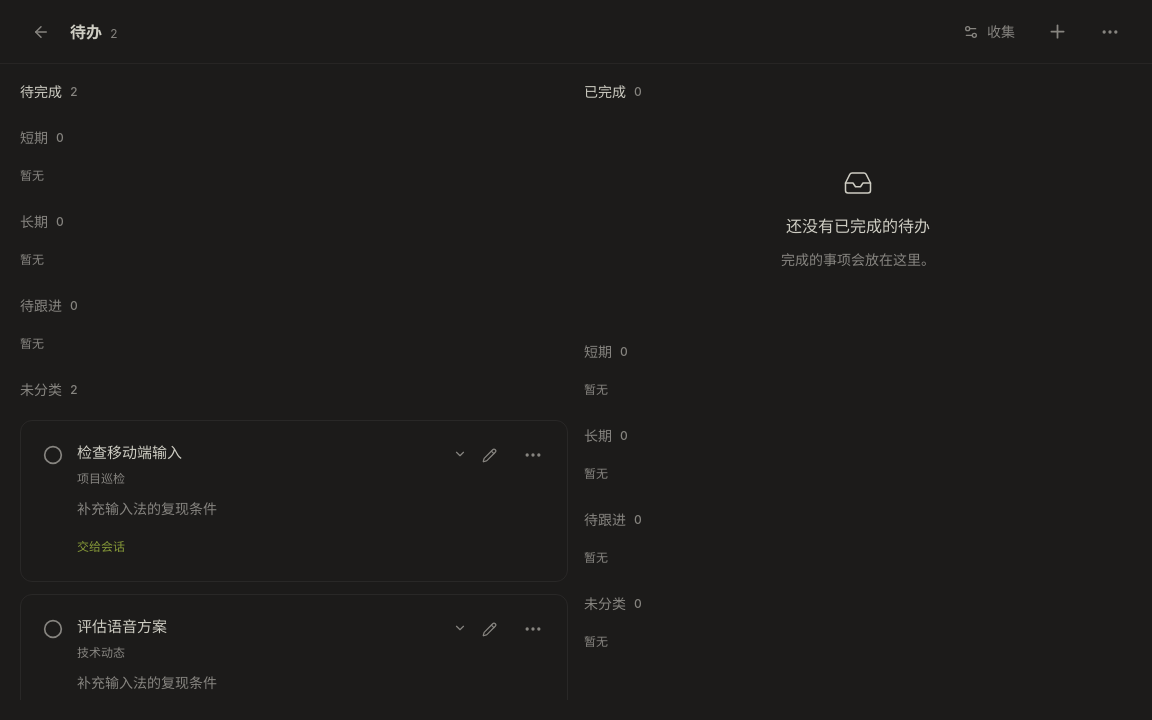
confirms deletion of one collection direction and preserves existing todos
Expected: the text "检查移动端输入" is shown, left=77, top=443, right=182, bottom=462
Step 1. Click the button with aria-label "管理收集方向" → (989, 32), box left=951, top=10, right=1027, bottom=54
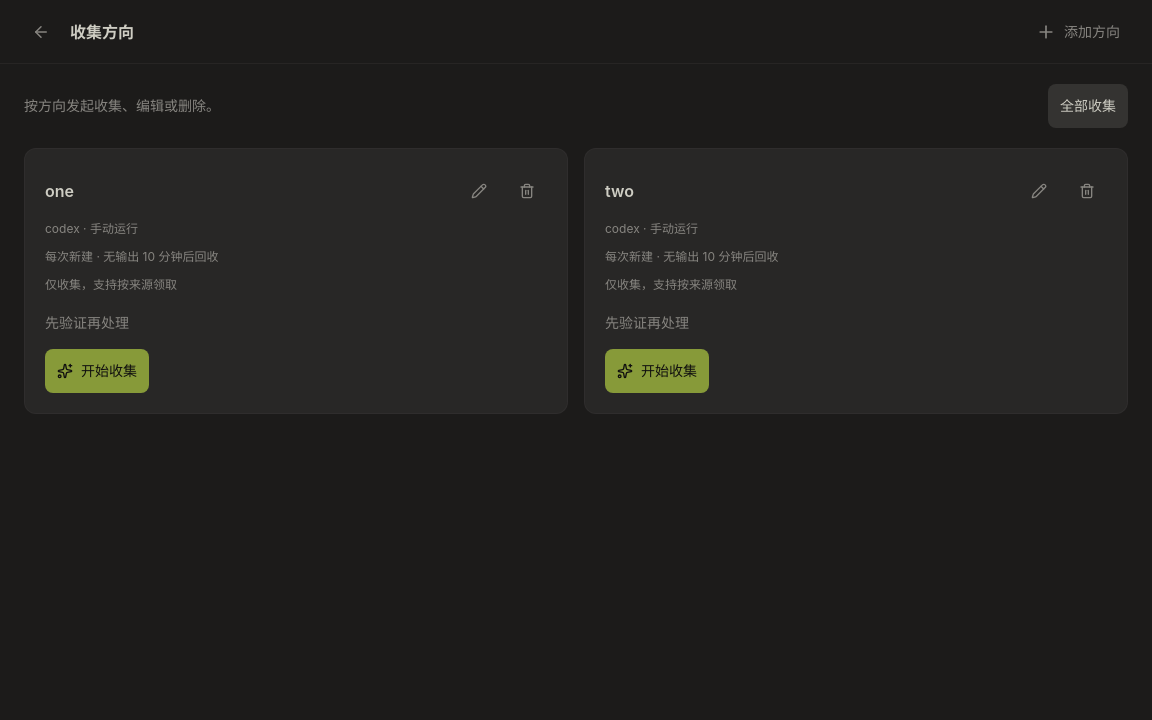
Step 2. Click the button named "删除 one" → (527, 191), box left=507, top=169, right=547, bottom=213
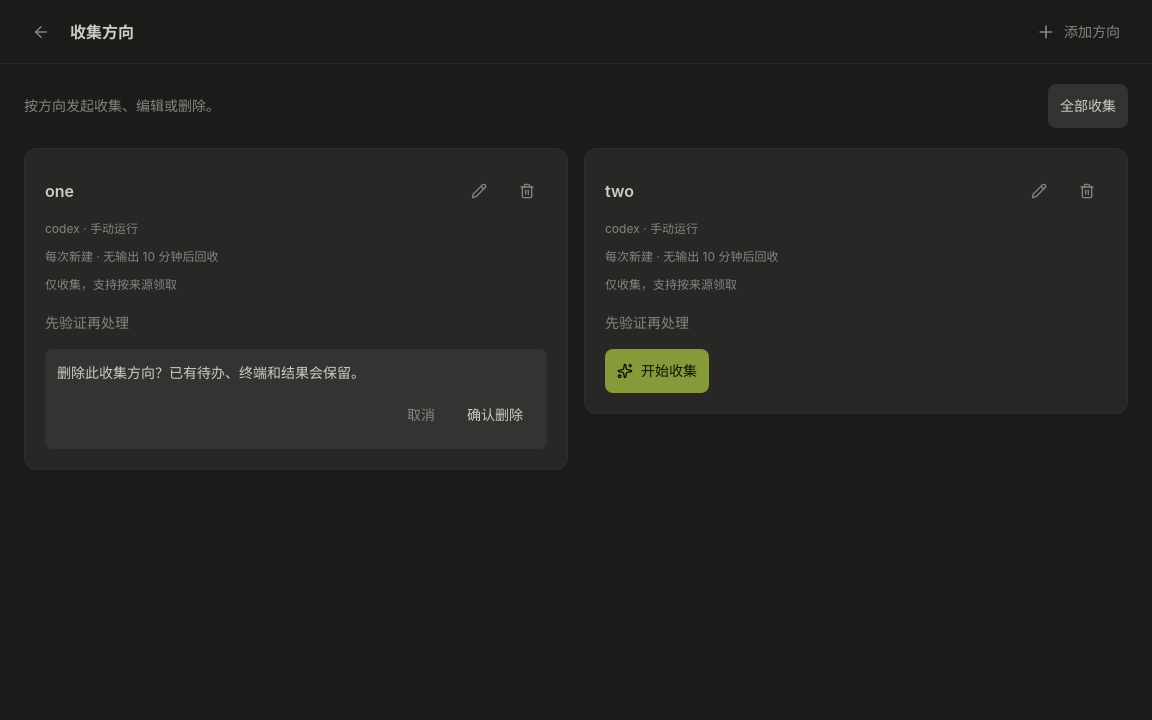
Step 3. Click the button "取消" → (421, 415), box left=395, top=393, right=447, bottom=437
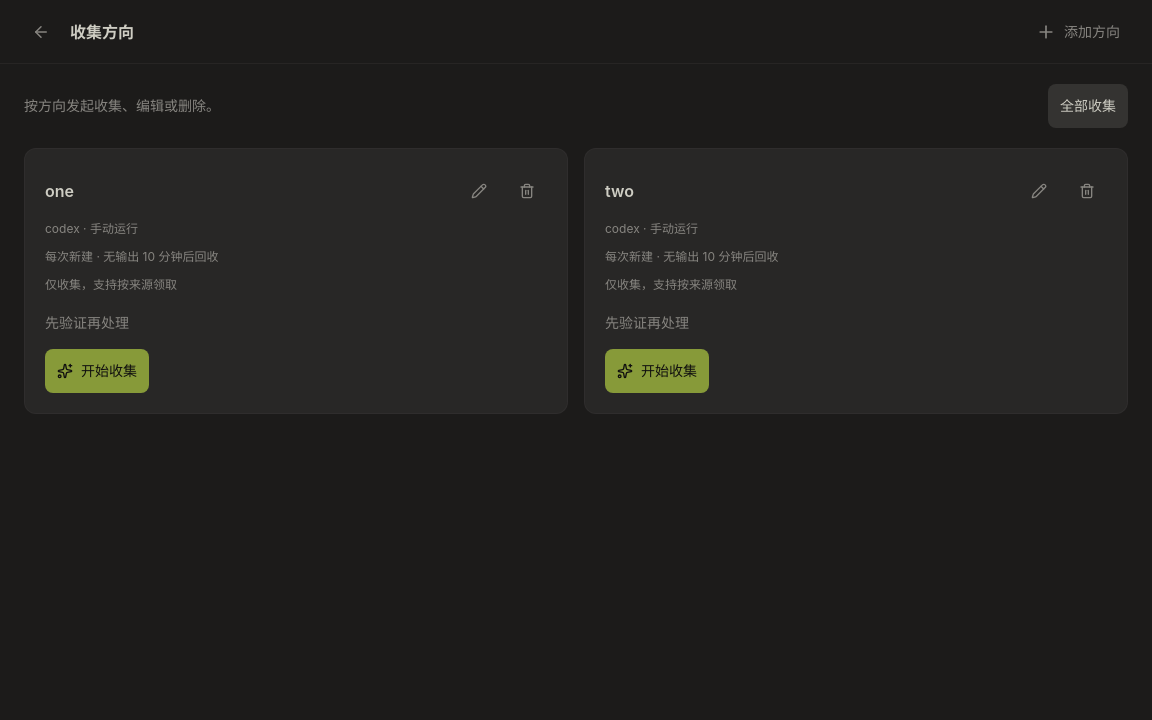
Step 4. Click the button named "删除 one" → (527, 191), box left=507, top=169, right=547, bottom=213
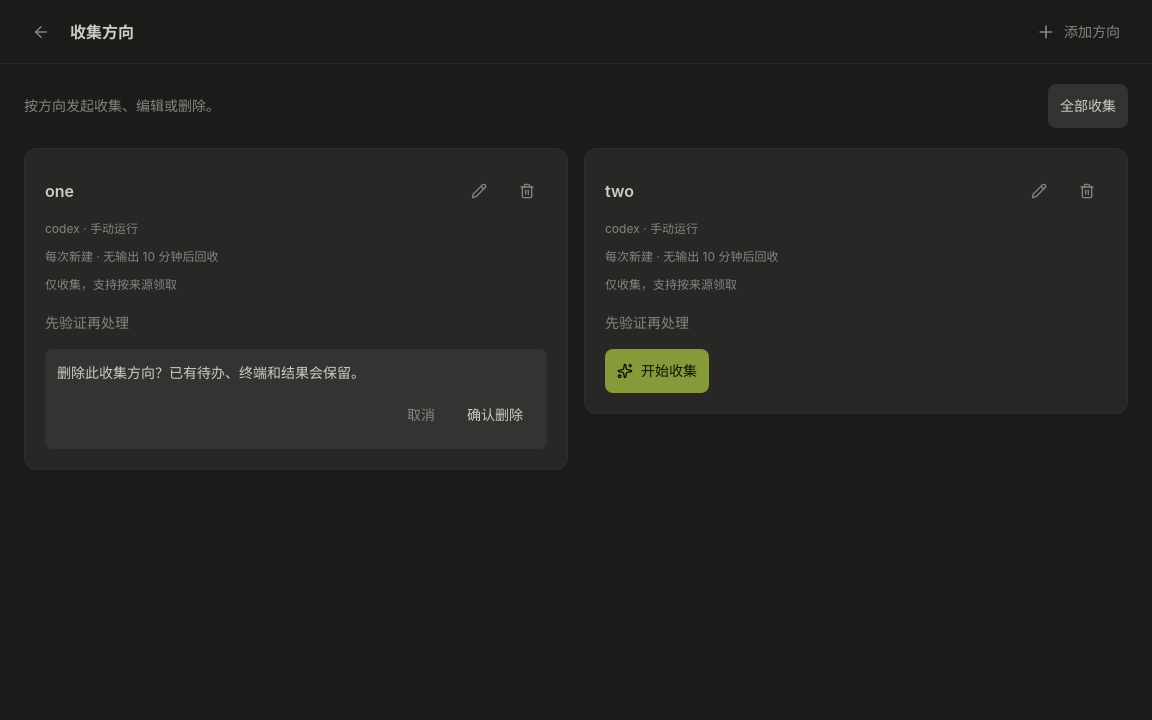
Step 5. Click the button "确认删除" → (495, 415), box left=455, top=393, right=535, bottom=437
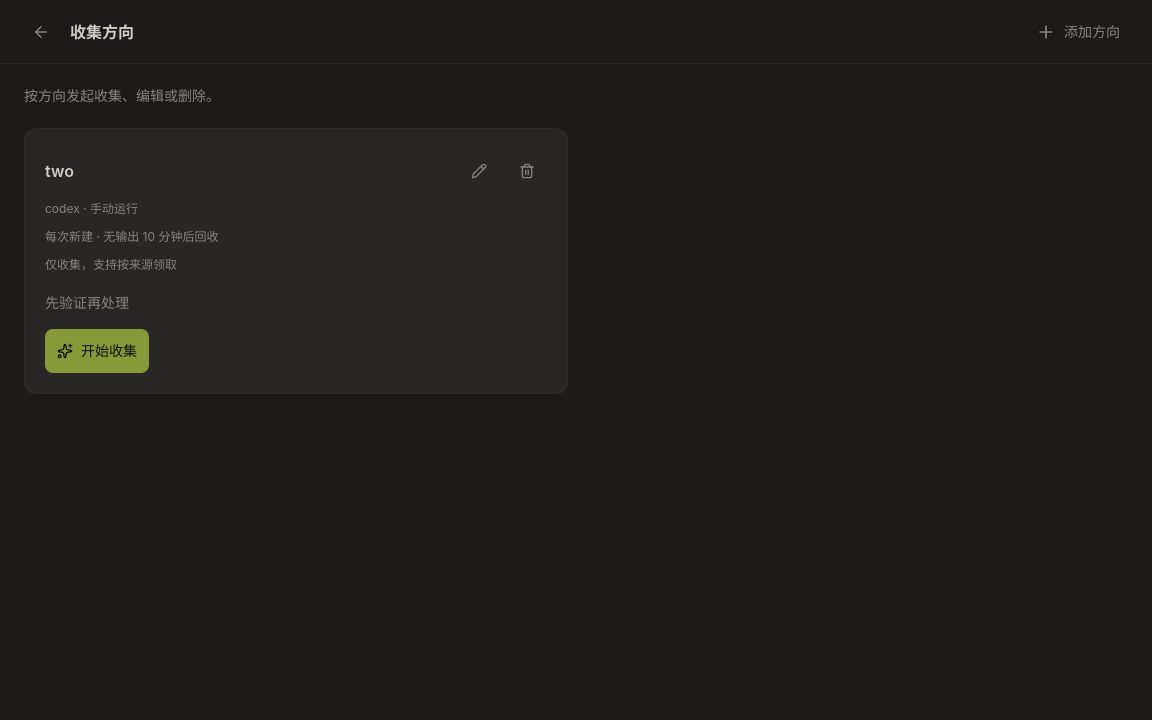
Result: the heading "two" is shown at left=45, top=161, right=74, bottom=181
Result: the heading "one" is gone
